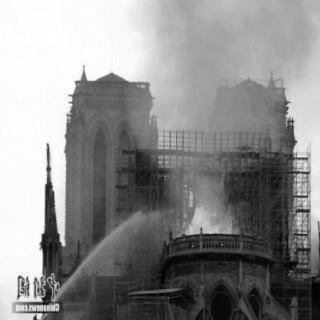Fire: (168, 202, 234, 240)
